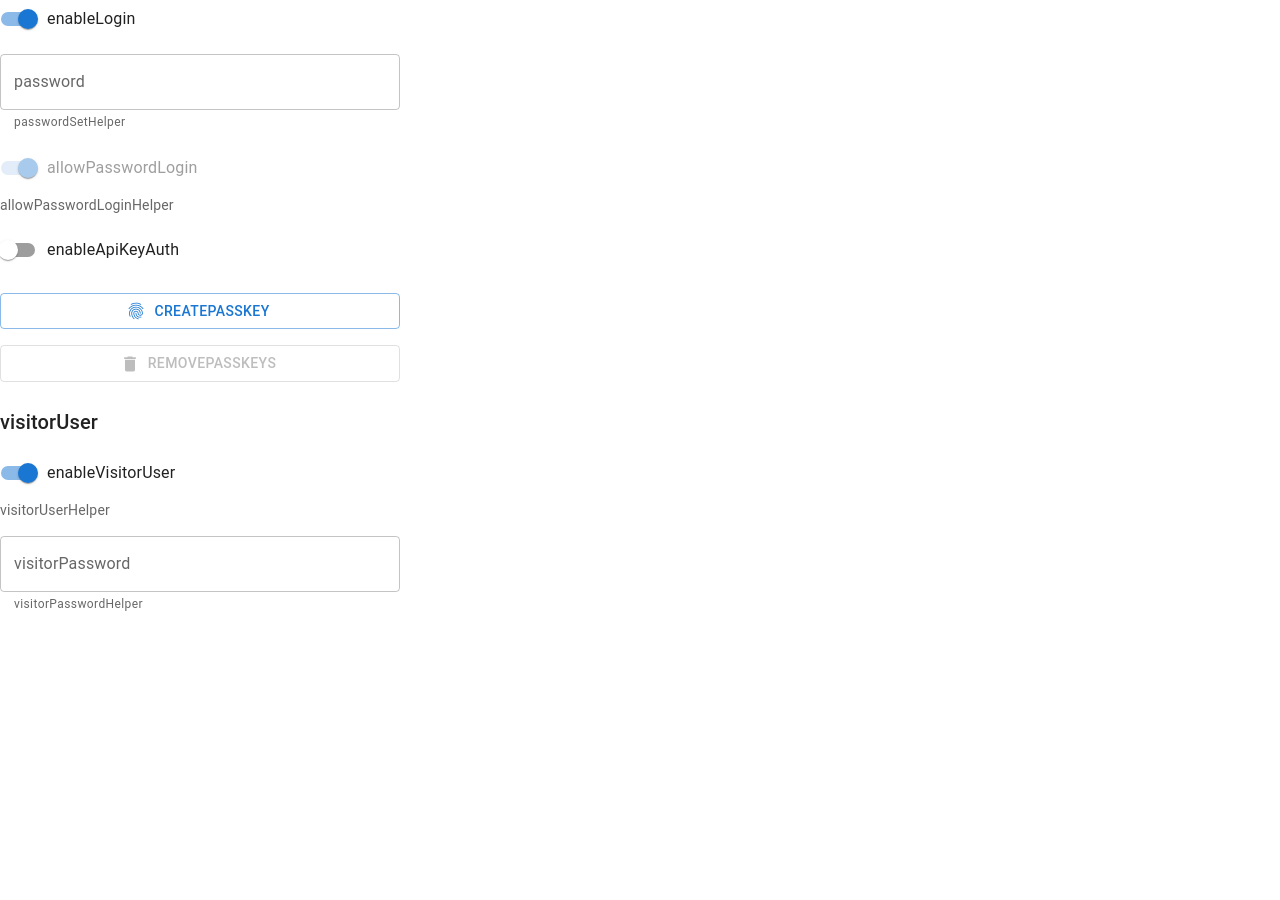
Test case: SecuritySettings › creates a passkey successfully and refetches passkeys
What coordinates should you click on to do the following:
click the button "createPasskey"
I would click on:
 (200, 311)
Its box is [0,293,400,329].
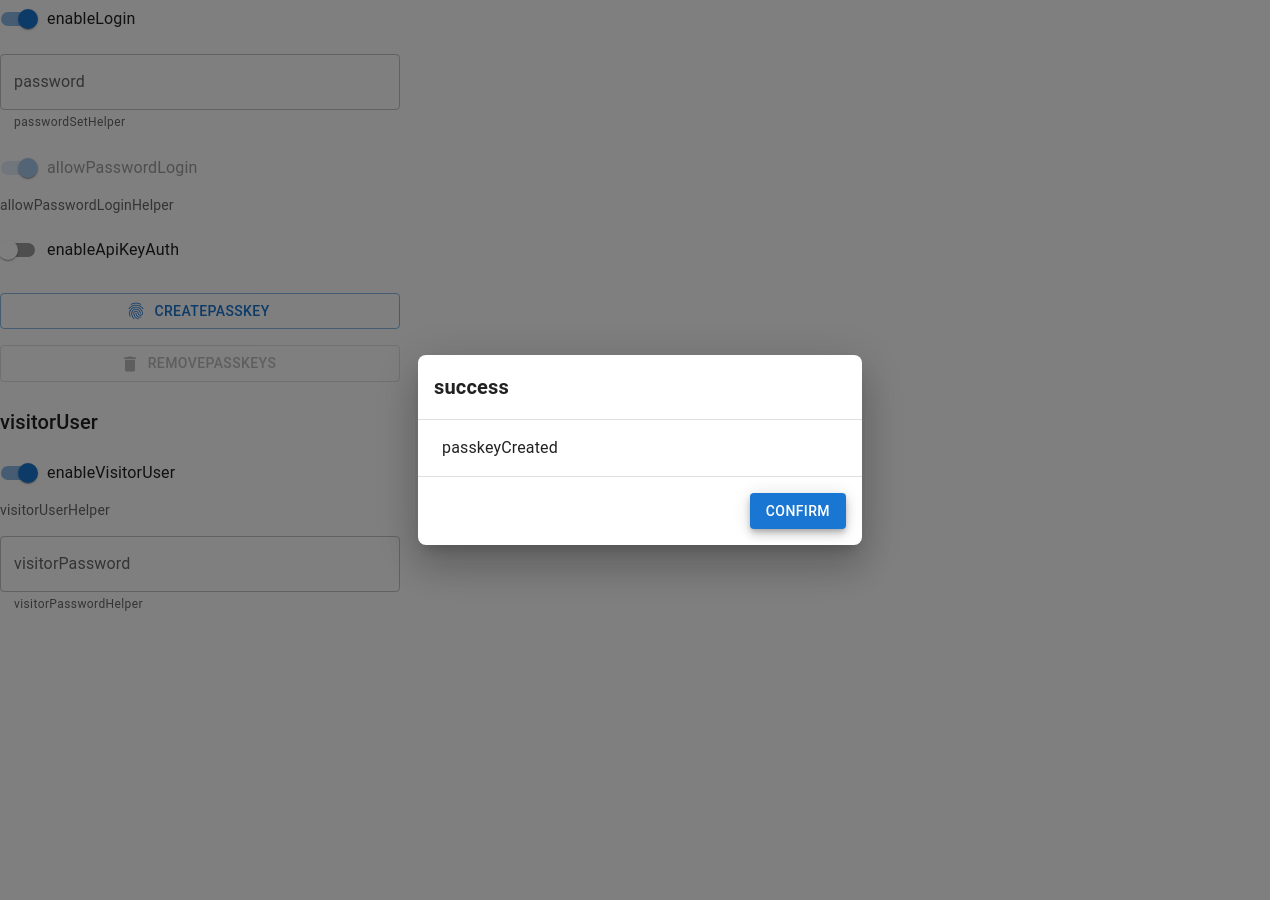
Expected: the text "passkeyCreated" is shown, [442,438,558,457]
